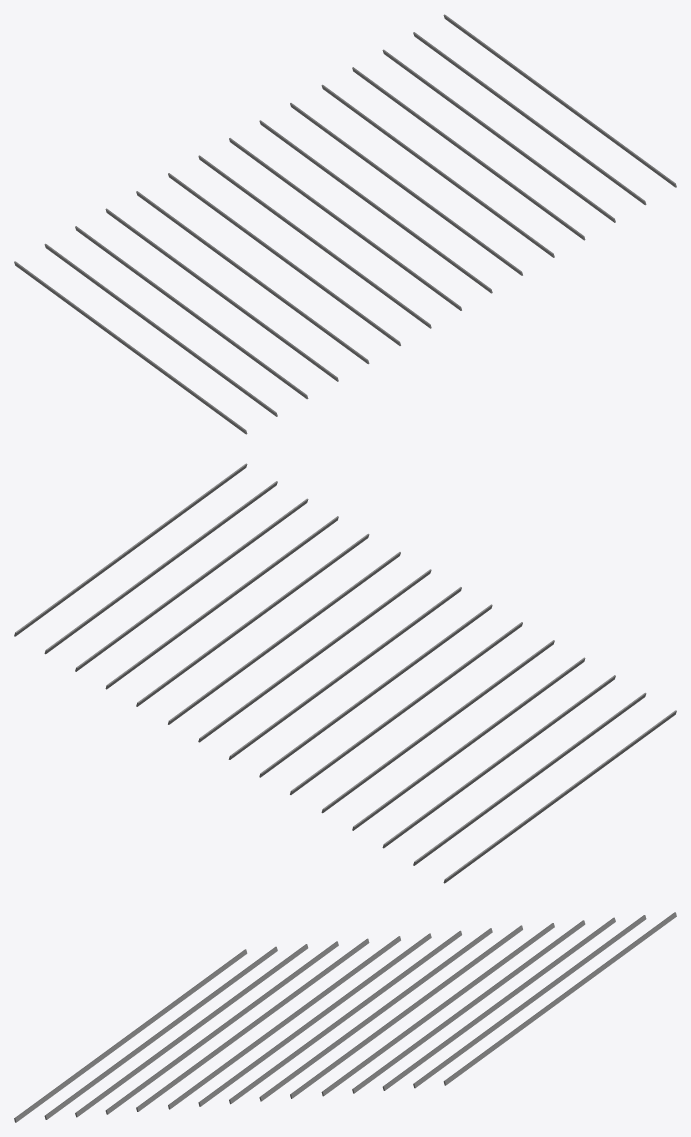
Rendered from purlin_new_1.glb.
The picture shows the model from 3 angles, top to bottom: view 1: azimuth 30°, elevation 25°; view 2: azimuth 150°, elevation 25°; view 3: azimuth 330°, elevation 25°; orthographic projection.
Visible parts, largest first — view 1: 3DGeom-2, 3DGeom-1, 3DGeom-3, 3DGeom-9, 3DGeom-10, 3DGeom-12, 3DGeom-13, 3DGeom-14, 3DGeom-15, 3DGeom-16, 3DGeom-4, 3DGeom-5 (+3 smaller); view 2: 3DGeom-2, 3DGeom-1, 3DGeom-3, 3DGeom-4, 3DGeom-5, 3DGeom-10, 3DGeom-12, 3DGeom-14, 3DGeom-15, 3DGeom-16, 3DGeom-6, 3DGeom-7 (+3 smaller); view 3: 3DGeom-9, 3DGeom-14, 3DGeom-16, 3DGeom-3, 3DGeom-4, 3DGeom-6, 3DGeom-7, 3DGeom-15, 3DGeom-1, 3DGeom-2, 3DGeom-5, 3DGeom-8 (+3 smaller).
Part boxes in pixels (left/top/right/bottom): 3DGeom-2: left=44, top=243, right=277, bottom=416; 3DGeom-1: left=136, top=191, right=369, bottom=364; 3DGeom-3: left=14, top=261, right=247, bottom=434; 3DGeom-9: left=259, top=120, right=492, bottom=293; 3DGeom-10: left=198, top=155, right=431, bottom=328; 3DGeom-12: left=321, top=84, right=554, bottom=257; 3DGeom-13: left=382, top=49, right=615, bottom=222; 3DGeom-14: left=443, top=14, right=676, bottom=187; 3DGeom-15: left=413, top=32, right=646, bottom=205; 3DGeom-16: left=352, top=67, right=585, bottom=240; 3DGeom-4: left=105, top=208, right=338, bottom=381; 3DGeom-5: left=75, top=226, right=308, bottom=399; 3DGeom-2: left=413, top=692, right=646, bottom=865; 3DGeom-1: left=321, top=640, right=554, bottom=813; 3DGeom-3: left=443, top=710, right=676, bottom=883; 3DGeom-4: left=352, top=657, right=585, bottom=830; 3DGeom-5: left=382, top=675, right=615, bottom=848; 3DGeom-10: left=259, top=604, right=492, bottom=777; 3DGeom-12: left=136, top=533, right=369, bottom=706; 3DGeom-14: left=14, top=463, right=247, bottom=636; 3DGeom-15: left=44, top=481, right=277, bottom=654; 3DGeom-16: left=105, top=516, right=338, bottom=689; 3DGeom-6: left=290, top=622, right=522, bottom=794; 3DGeom-7: left=228, top=587, right=461, bottom=759; 3DGeom-9: left=259, top=928, right=492, bottom=1101; 3DGeom-14: left=443, top=912, right=676, bottom=1085; 3DGeom-16: left=352, top=920, right=585, bottom=1093; 3DGeom-3: left=14, top=949, right=247, bottom=1122; 3DGeom-4: left=105, top=941, right=338, bottom=1114; 3DGeom-6: left=168, top=936, right=400, bottom=1109; 3DGeom-7: left=229, top=930, right=461, bottom=1104; 3DGeom-15: left=413, top=915, right=646, bottom=1088; 3DGeom-1: left=136, top=938, right=369, bottom=1111; 3DGeom-2: left=44, top=946, right=277, bottom=1119; 3DGeom-5: left=75, top=944, right=308, bottom=1117; 3DGeom-8: left=290, top=925, right=522, bottom=1098.
Size of the model in its own units: 32.92 by 10.65 by 30.48.
1 material, 1 textured.
